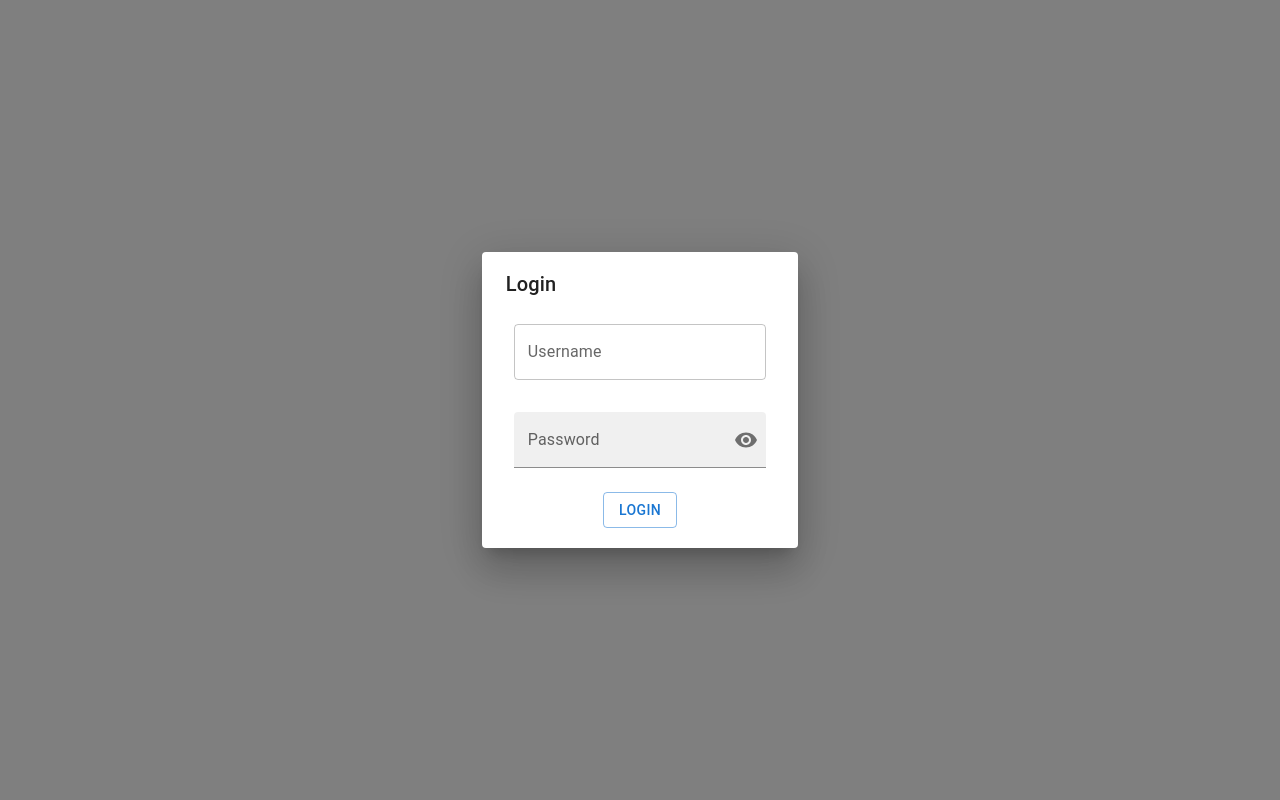
it: LoginDialog › during the login fetchAuthentication generate an exception
The width and height of the screenshot is (1280, 800).
// Simulate a successfull login
Type "testuser" into the field labelled "Username" at (640, 352), box [514, 324, 766, 380]
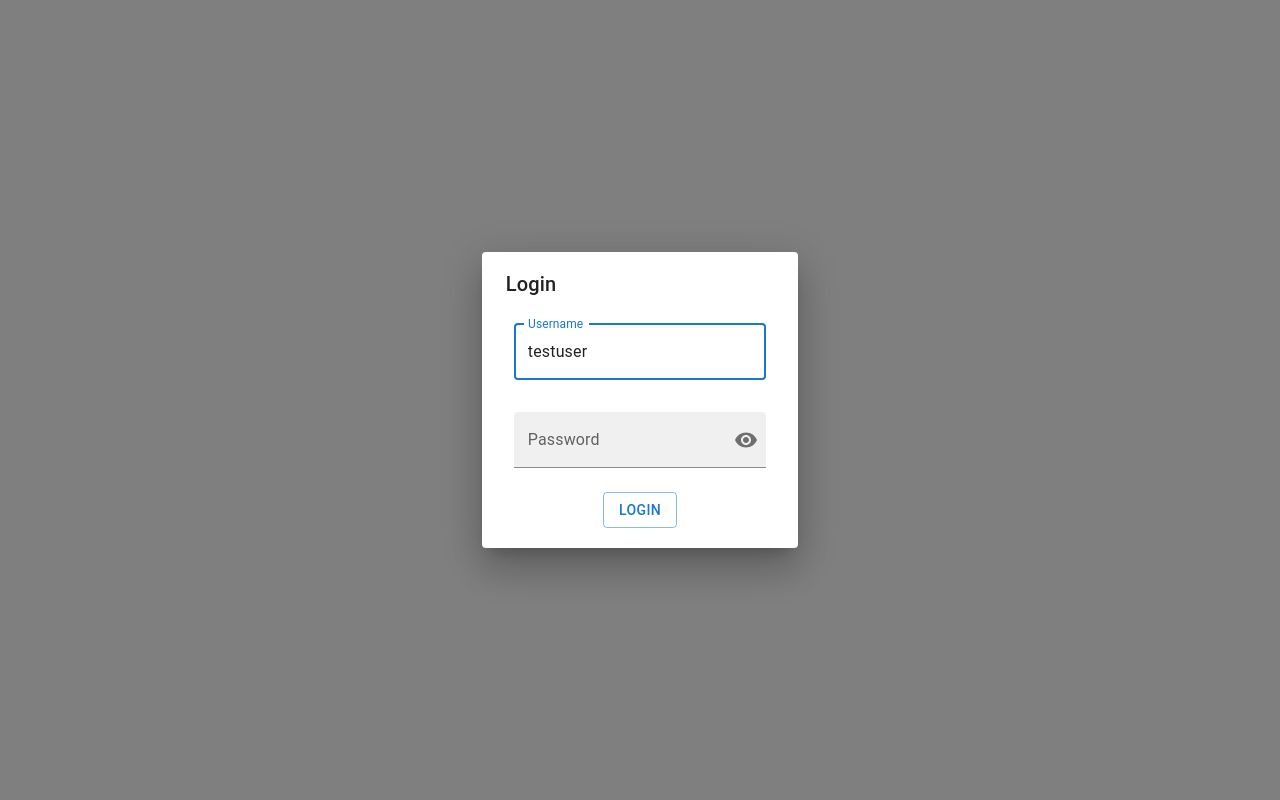
Type "password" into the password field labelled "Password" at (616, 440), box [514, 412, 718, 468]
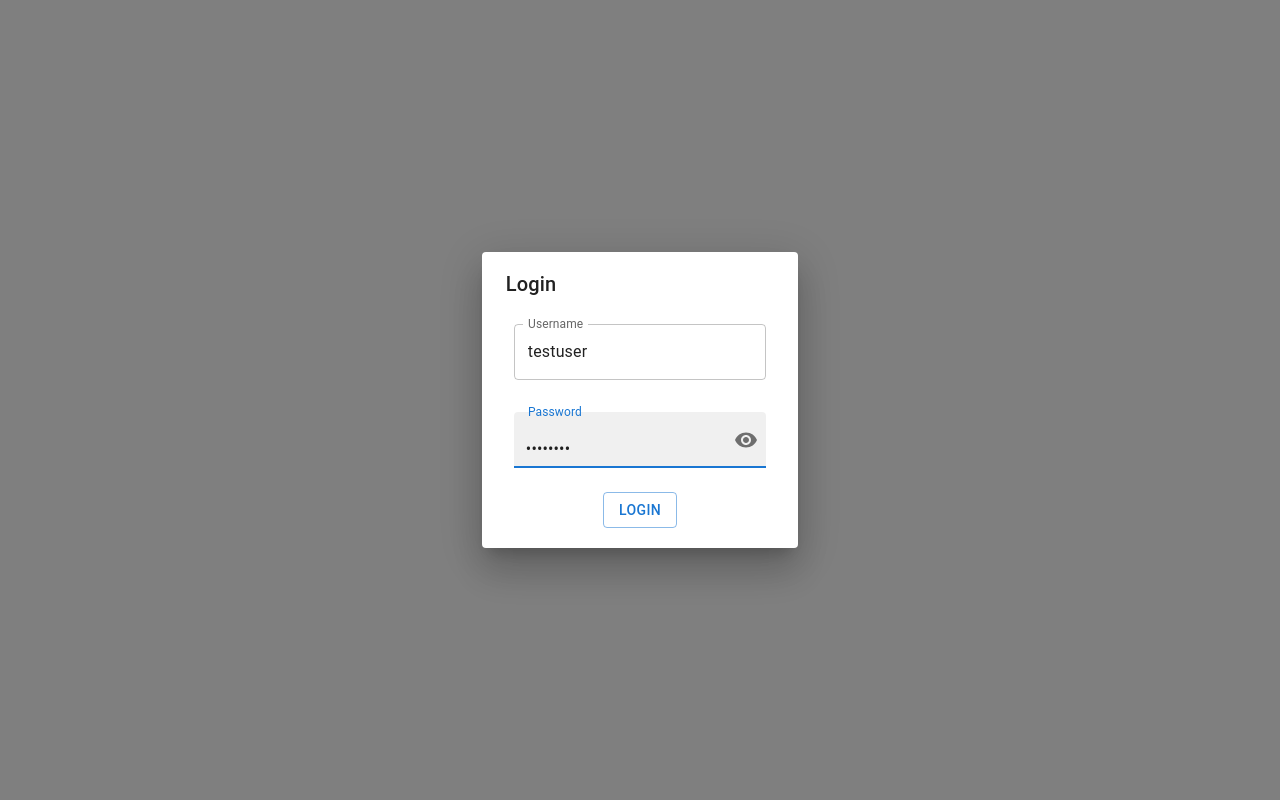
Click the button "Login" at (640, 510), box [603, 492, 677, 528]
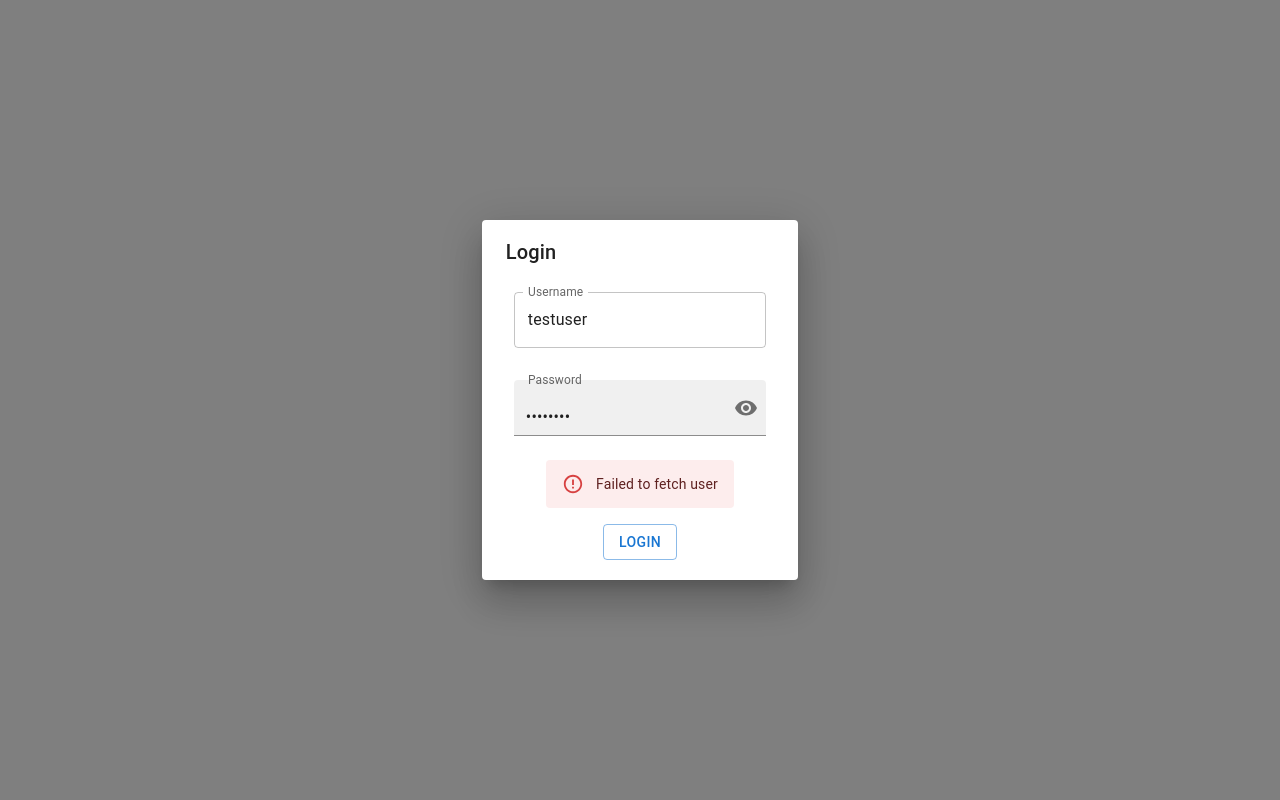
expect the message "Failed to fetch user" is shown: met, box [546, 460, 734, 508]
expect the message reads "Failed to fetch user": met, box [596, 476, 718, 492]
